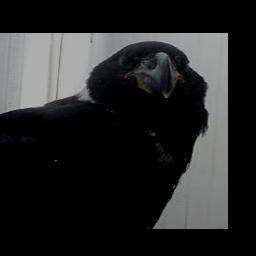Crow: (0, 39, 213, 228)
